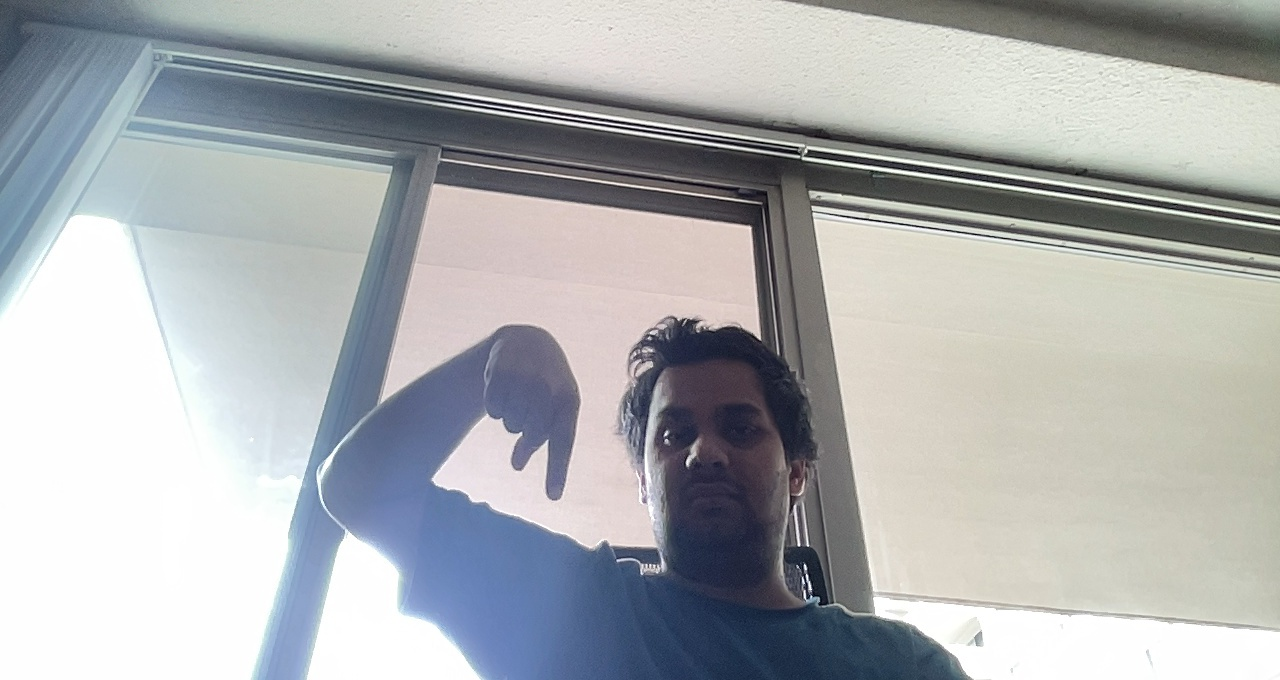fingerdown: (480, 317, 585, 509)
